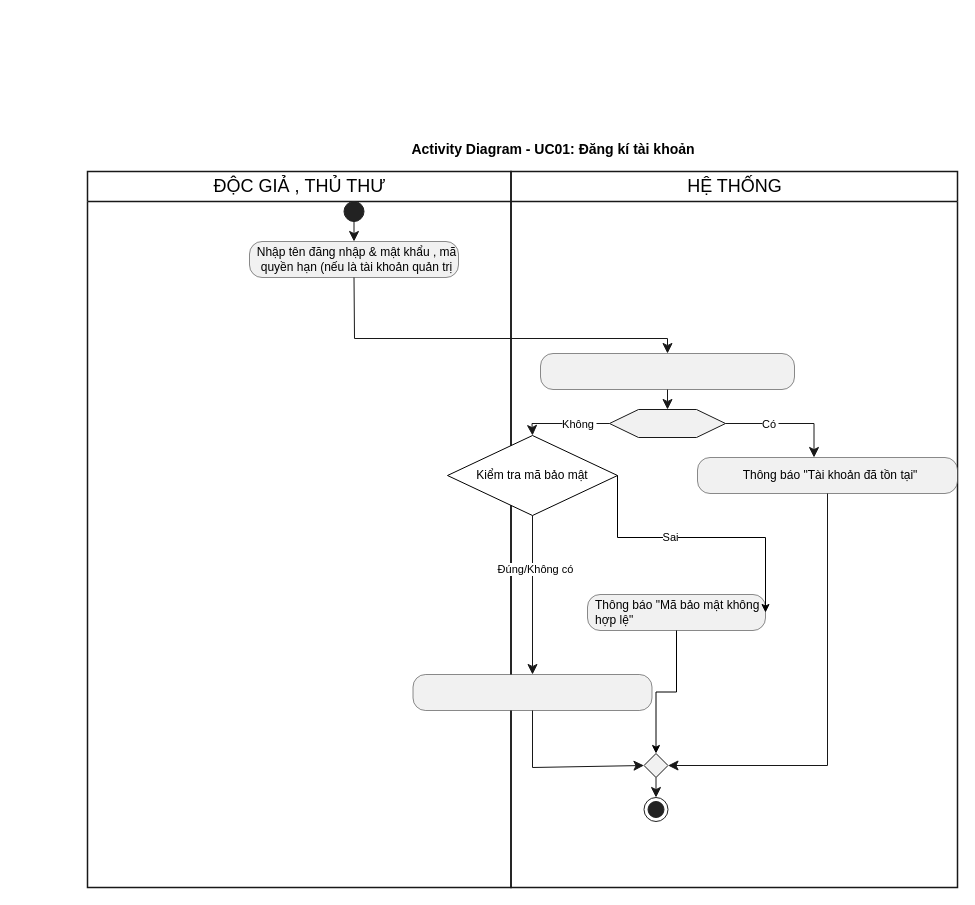
This 975x905 diagram has some shape labels left out. Each missing label, with the centre of its shape:
"Cấp quyền & Chuyển hướng giao diện" belongs at (x=532, y=692).
"Tài khoản đã tồn tại?" belongs at (x=667, y=423).
"Xác thực thông tin tài khoản trong CSDL" belongs at (x=667, y=371).
